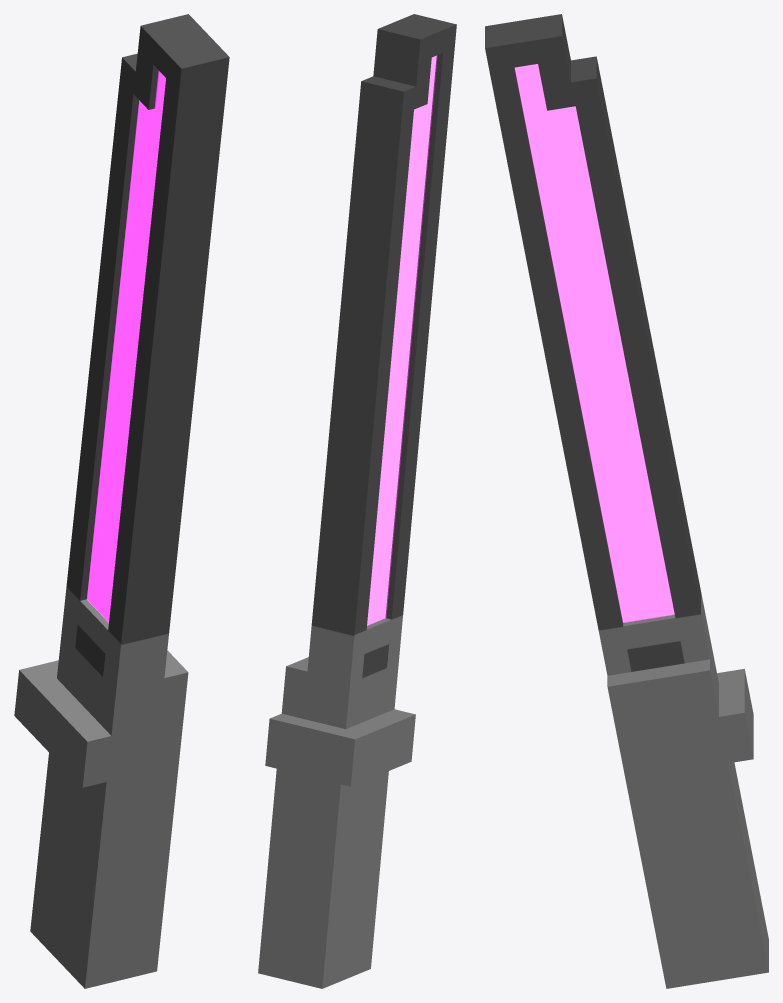
File: dark_saber_pink.glb
The picture shows the model from 3 angles, left to right: view 1: azimuth 30°, elevation 25°; view 2: azimuth 150°, elevation 25°; view 3: azimuth 270°, elevation 25°; orthographic projection. The views are drawn at different scales.
Visible parts, largest first — view 1: DarkSaber.001; view 2: DarkSaber.001; view 3: DarkSaber.001.
Boxes of the visible parts, x1,y1,x2,y2 form: DarkSaber.001: [14, 14, 229, 988]; DarkSaber.001: [258, 14, 456, 988]; DarkSaber.001: [485, 14, 768, 988].
Bounding box in the file's own units: 0.4 × 3.99 × 1.09.
Materials: 1 (1 with a texture image).
